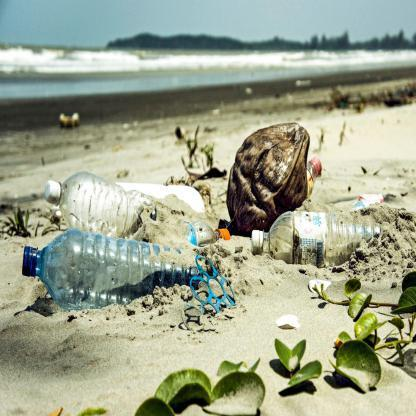Plastic: (17, 229, 212, 303), (39, 171, 197, 247), (249, 207, 383, 265)
